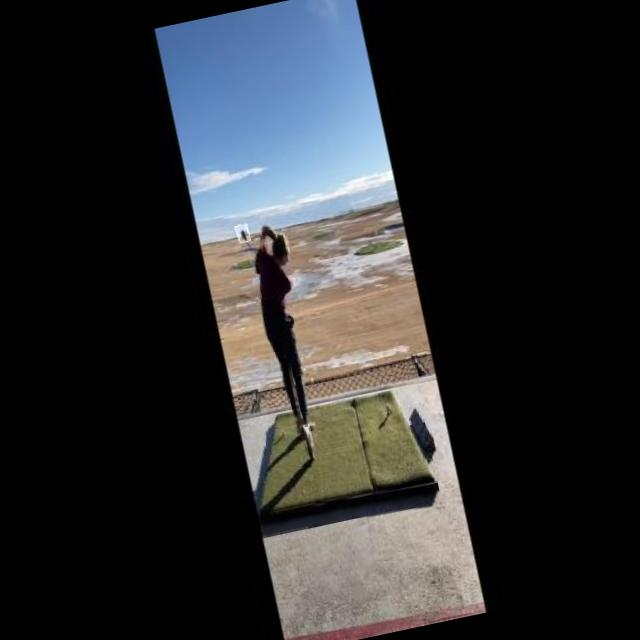club head: (235, 223, 251, 243)
